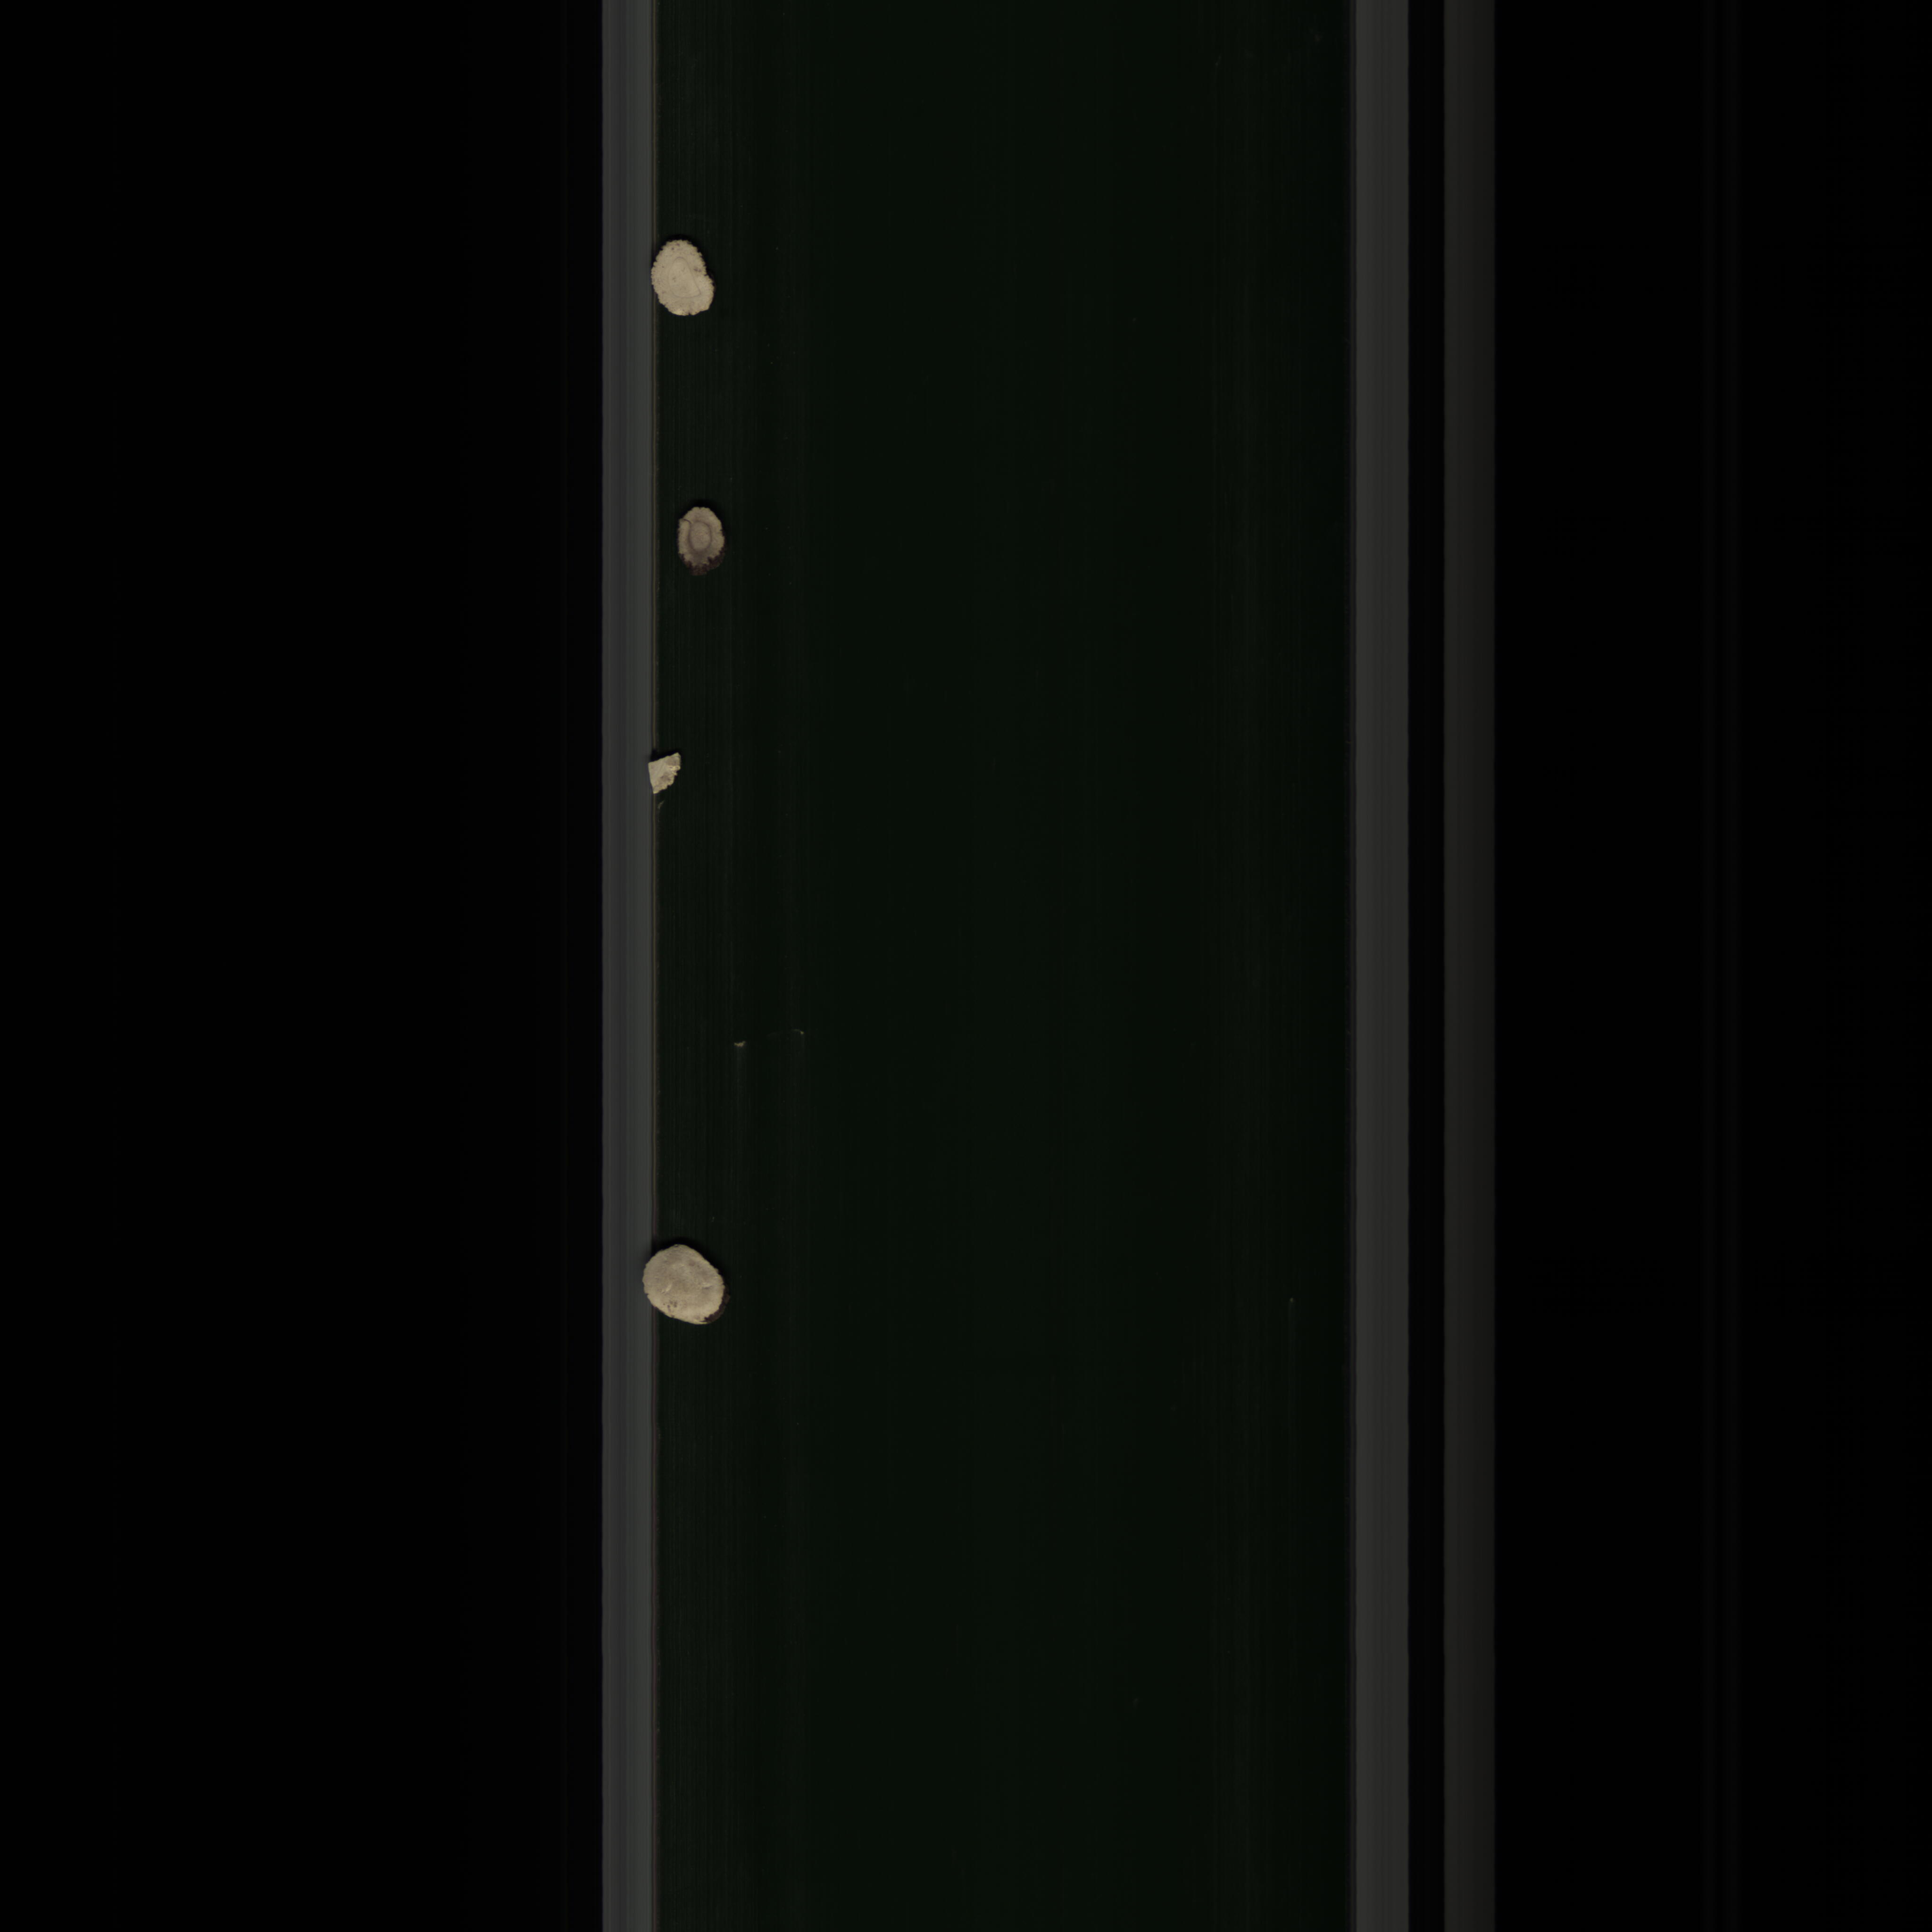debris: (635, 747, 697, 816)
moldy: (674, 501, 736, 586)
